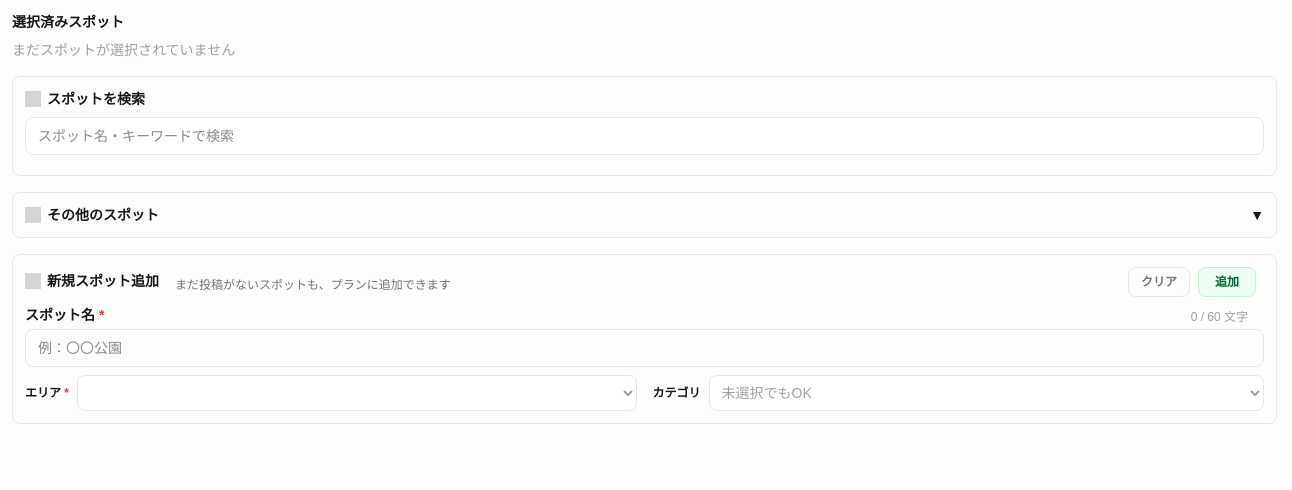
Test: SpotPicker（GATE-22フォローアップ: 無限スクロール対応） › その他のスポット取得が失敗してもエラーを表示する
Click the button "その他のスポット ▼" at [103, 215], box [13,193,1276,237]
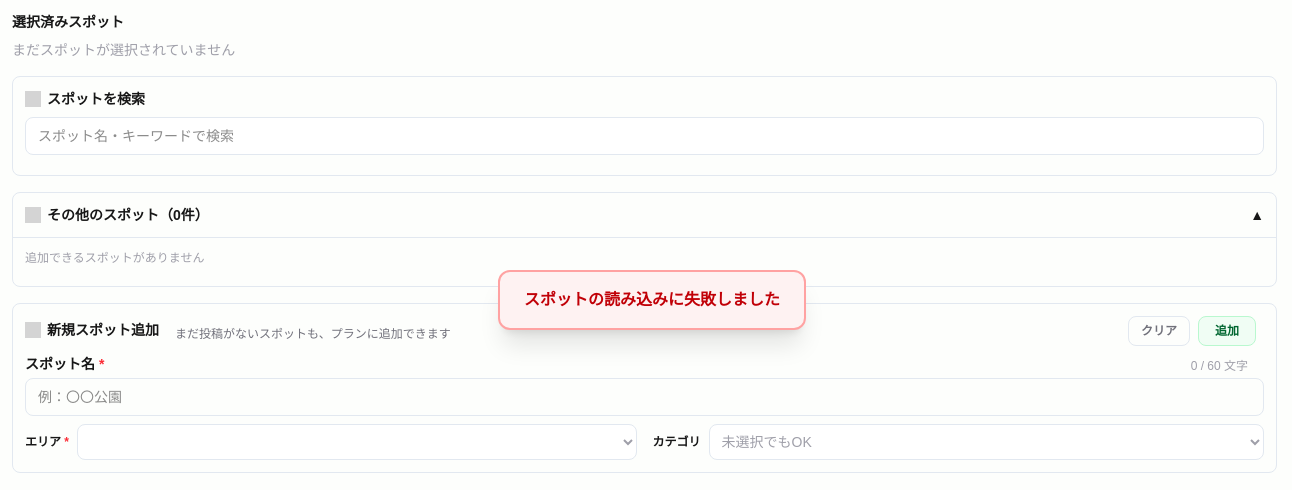
Result: the text "スポットの読み込みに失敗しました" is shown at [498,270,806,330]
